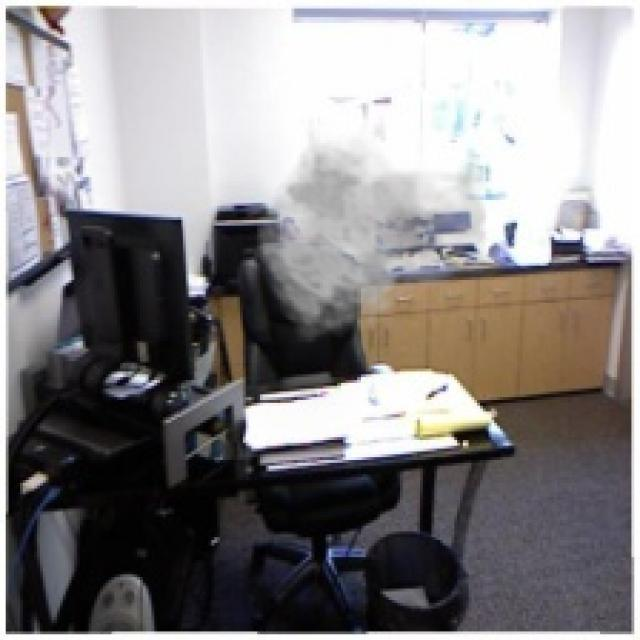Smoke: (254, 123, 506, 343)
